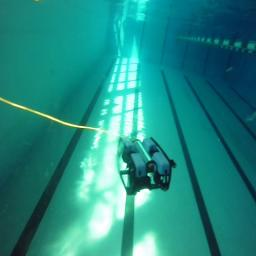front: (114, 133, 178, 196)
